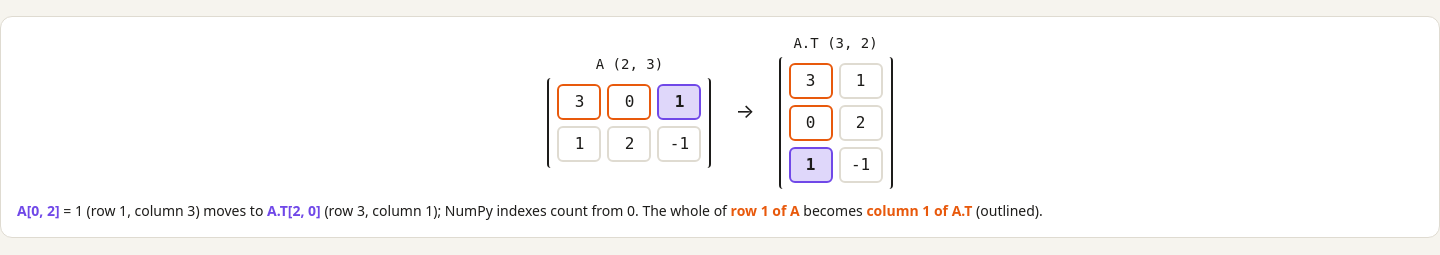
Test: TransposeExplorer › highlights an entry and its partner in the transpose
Click the button named "A row 2, column 3: -1" at x=680, y=144, box x1=658 y1=126 x2=702 y2=162
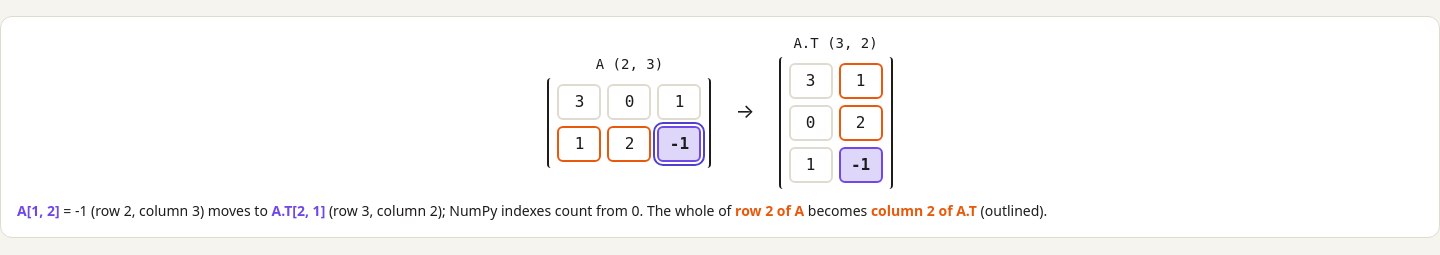
Check: the text "A.T[2, 1]" is shown, box x1=272 y1=201 x2=325 y2=220
